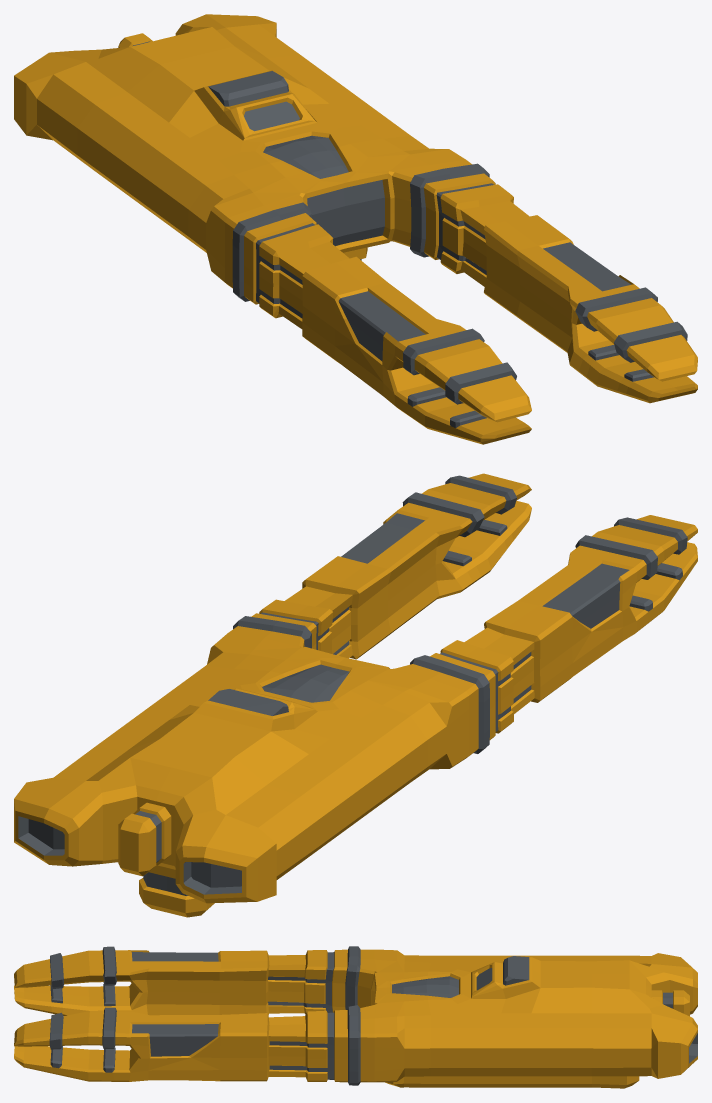
File: Fighter_01__Yellow.fbx
The picture shows the model from 3 angles, top to bottom: view 1: azimuth 30°, elevation 25°; view 2: azimuth 150°, elevation 25°; view 3: azimuth 270°, elevation 25°; orthographic projection. The views are drawn at different scales.
Parts seen in each view (by area): view 1: Fighter_01__Yellow; view 2: Fighter_01__Yellow; view 3: Fighter_01__Yellow.
Boxes of the visible parts, box(x1,y1,x2,y2) form: Fighter_01__Yellow: box(14, 14, 697, 444); Fighter_01__Yellow: box(14, 473, 697, 917); Fighter_01__Yellow: box(14, 946, 697, 1088).
Bounding box in the file's own units: 380 × 225 × 1235.
2 materials, 2 textured.
